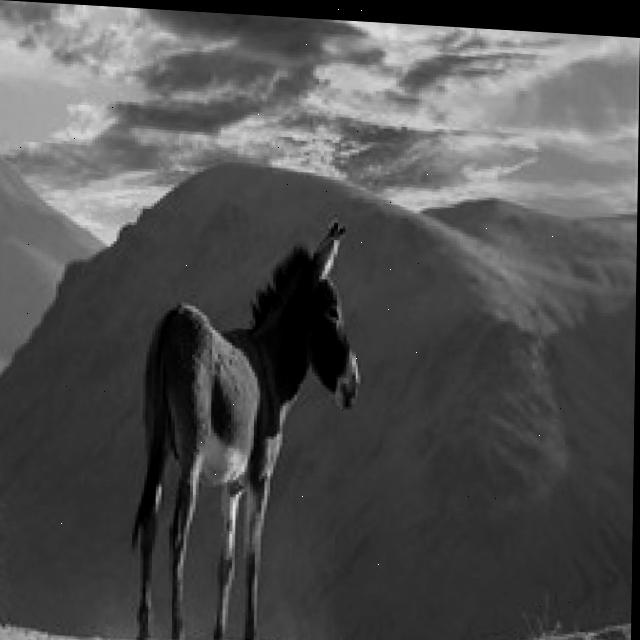Donkey: (128, 208, 363, 640)
